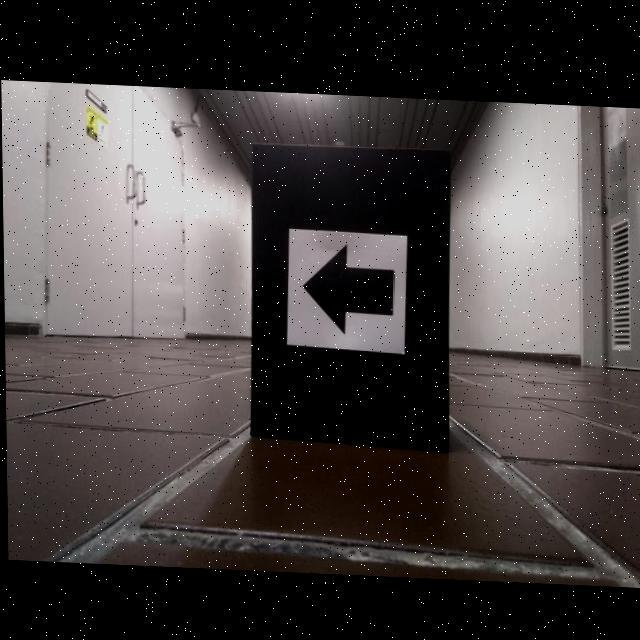LEFT: (302, 239, 393, 333)
